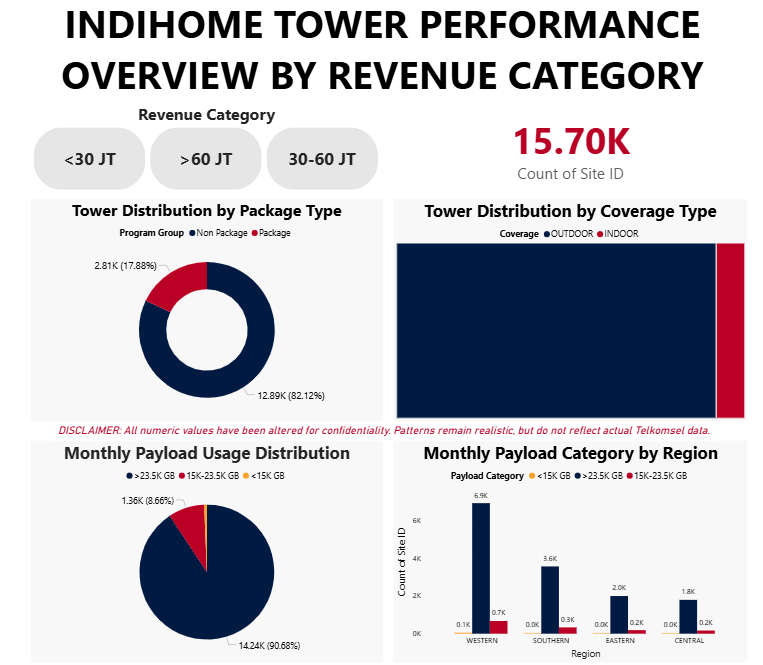

The dashboard page shown, as its layout file describes it:
{"tool":"powerbi","page":{"name":"Duplicate of Tower Performance (Altered)","canvas":[1280,1150],"ordinal":0},"visuals":[{"type":"advancedSlicerVisual","fields":{"Values":["Sheet1.Revenue Category "]},"box":[53.3,200,586.7,150],"z":0},{"type":"card","title":"Site","fields":{"Values":["Sheet1.Site ID"]},"box":[656.7,200,590,150],"z":1000},{"type":"donutChart","title":"Tower Distribution by Package Type","fields":{"Category":["Sheet1.Program Group 2"],"Y":["Sheet1.Site ID"]},"box":[52.5,360,587.5,370],"z":2000},{"type":"clusteredColumnChart","title":"Monthly Payload Category by Region","fields":{"Category":["Sheet1.Region"],"Y":["Sheet1.Site ID"],"Series":["Sheet1.Payload Category"]},"box":[657.5,762.5,590,370],"z":4000},{"type":"treemap","title":"Tower Distribution by Coverage Type","fields":{"Group":["Sheet1.Coverage"],"Values":["Sheet1.Site ID"]},"box":[657.5,360,590,370],"z":5000},{"type":"pieChart","title":"Monthly Payload Usage Distribution","fields":{"Category":["Sheet1.Payload Category"],"Y":["Sheet1.Site ID"]},"box":[52.5,762.5,587.5,370],"z":6000},{"type":"textbox","title":"INDIHOME TOWER PERFORMANCE OVERVIEW BY REVENUE CATEGORY","box":[53.3,23.3,1173.3,163.3],"z":7000},{"type":"textbox","title":"DISCLAIMER: All numeric values have been altered for confidentiality. Patterns remain realistic, but do not reflect actual Telkomsel data.","box":[90,735,1102.5,27.5],"z":10000}]}

Visuals, with their boxes on the page's 1280x1150 design canvas (x1, y1, x2, y2). These are canvas units, not pixel positions in the 763x665 screenshot, which may show the page scaled, cropped or inside an application window:
advancedSlicerVisual - Sheet1.Revenue Category : left=53, top=200, right=640, bottom=350
"Site" card: left=657, top=200, right=1247, bottom=350
"Tower Distribution by Package Type" donutChart: left=52, top=360, right=640, bottom=730
"Monthly Payload Category by Region" clusteredColumnChart: left=658, top=762, right=1248, bottom=1132
"Tower Distribution by Coverage Type" treemap: left=658, top=360, right=1248, bottom=730
"Monthly Payload Usage Distribution" pieChart: left=52, top=762, right=640, bottom=1132
"INDIHOME TOWER PERFORMANCE OVERVIEW BY REVENUE CATEGORY" textbox: left=53, top=23, right=1227, bottom=187
"DISCLAIMER: All numeric values have been altered for confidentiality. Patterns remain realistic, but do not reflect actual Telkomsel data." textbox: left=90, top=735, right=1192, bottom=762
